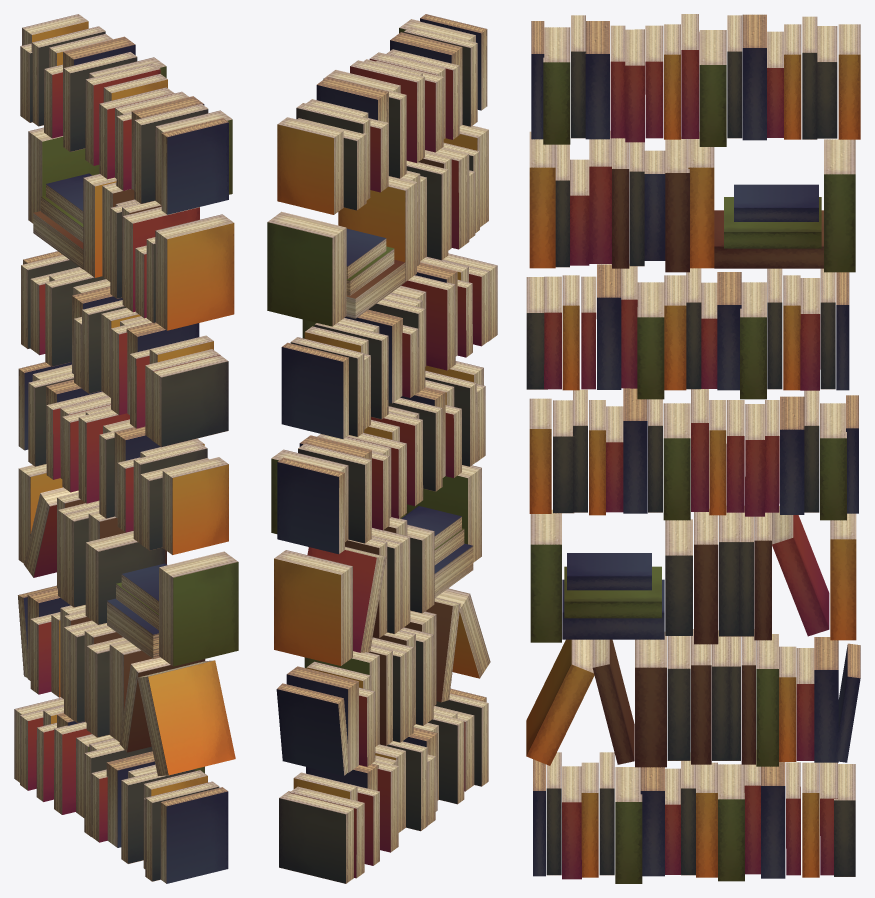
File: Books_BookcaseSmall_Combined.fbx
3 renders of one model, left to right at view 1: azimuth 30°, elevation 25°; view 2: azimuth 150°, elevation 25°; view 3: azimuth 270°, elevation 25°, orthographic. The views are drawn at different scales.
Visible parts, largest first — view 1: Book_Low.387; view 2: Book_Low.387; view 3: Book_Low.387.
Part boxes in pixels (bbox=[...]): Book_Low.387: bbox=[14, 14, 238, 883]; Book_Low.387: bbox=[267, 14, 497, 883]; Book_Low.387: bbox=[526, 14, 860, 883].
Bounding box in the file's own units: 91.36 × 764 × 279.
